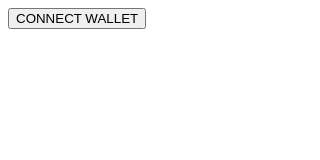
Test: ClientConnect › connects through the selected wallet kit and stores the public key
Click the button with test id "connect-wallet-chrome" at (77, 18), box [8,8,146,29]
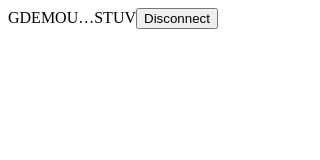
Check: the text "GDEMOU…STUV" is shown, box [8,9,136,26]
